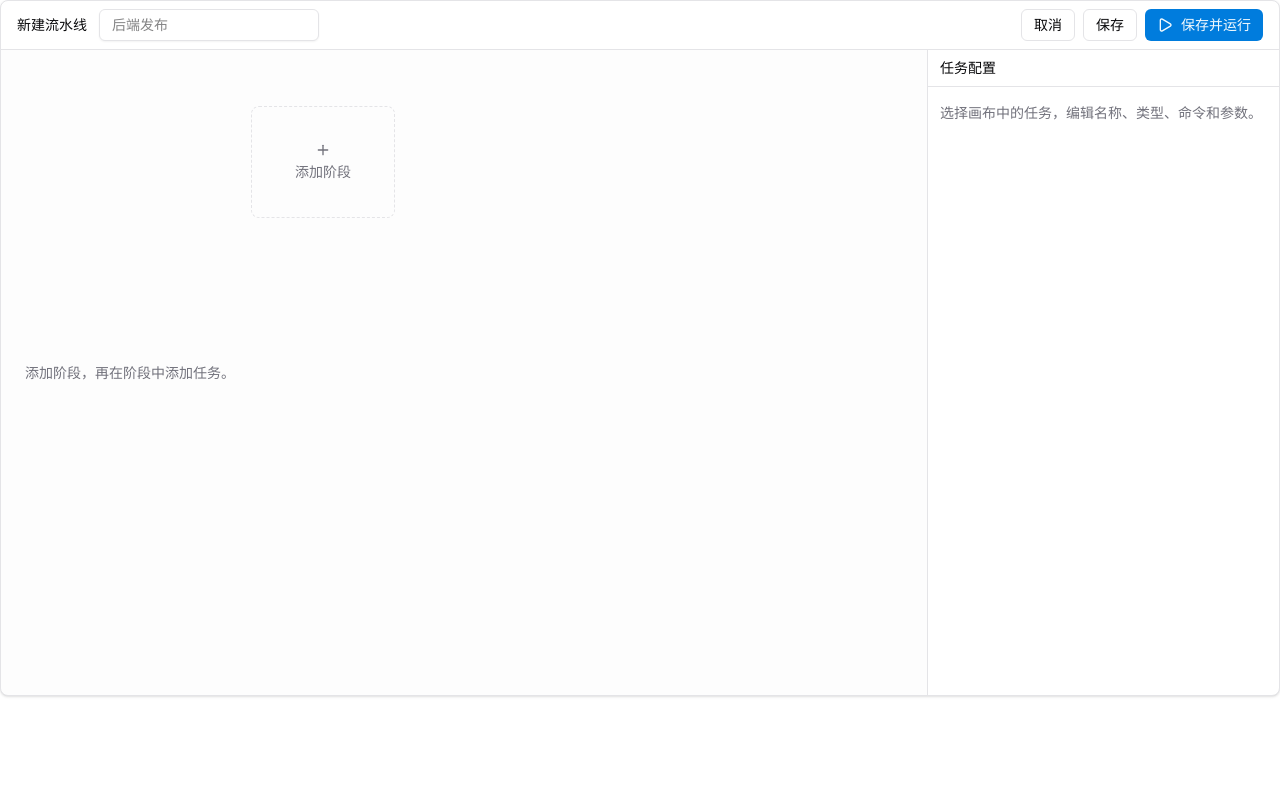
PipelineEditorPage › PIPE-137: blocks saving without a name
Click the button "保存" at (1110, 25), box [1083,9,1137,41]
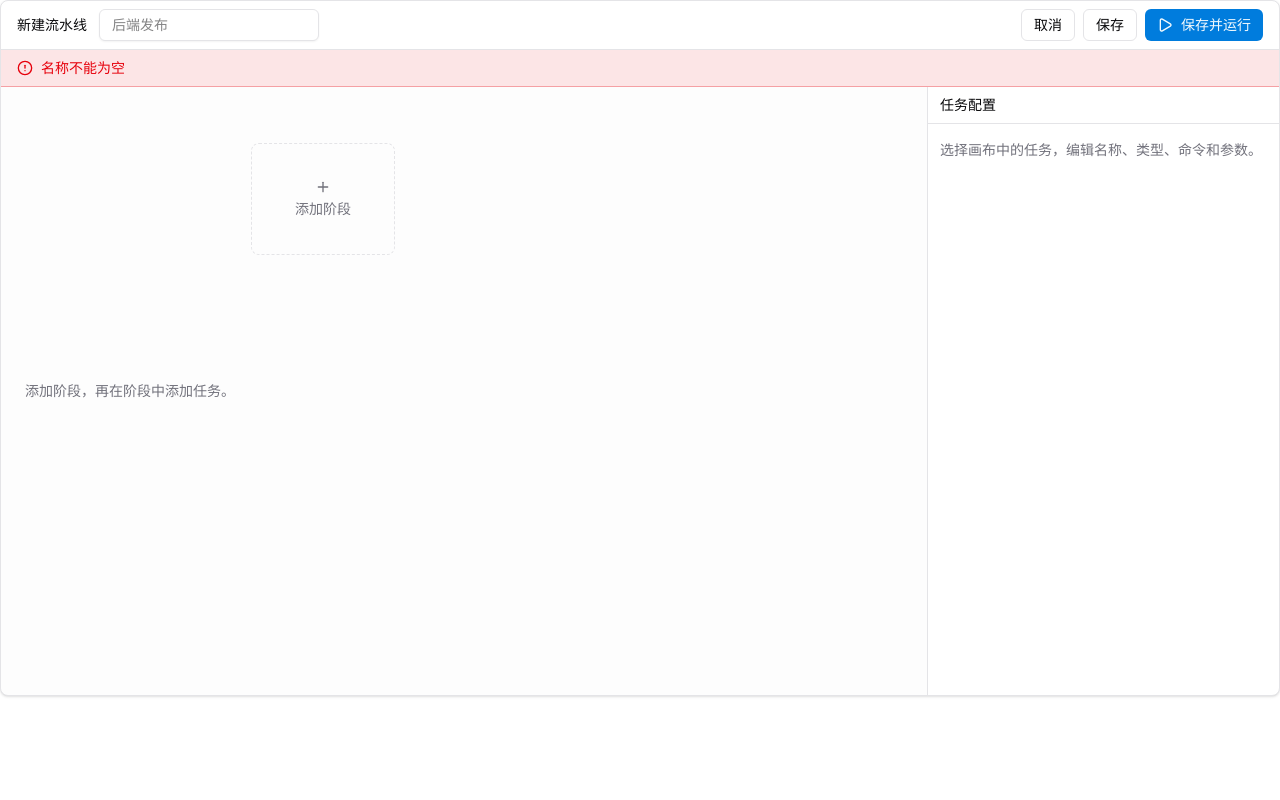
Result: the message "名称不能为空" is shown at [1,50,1279,87]
